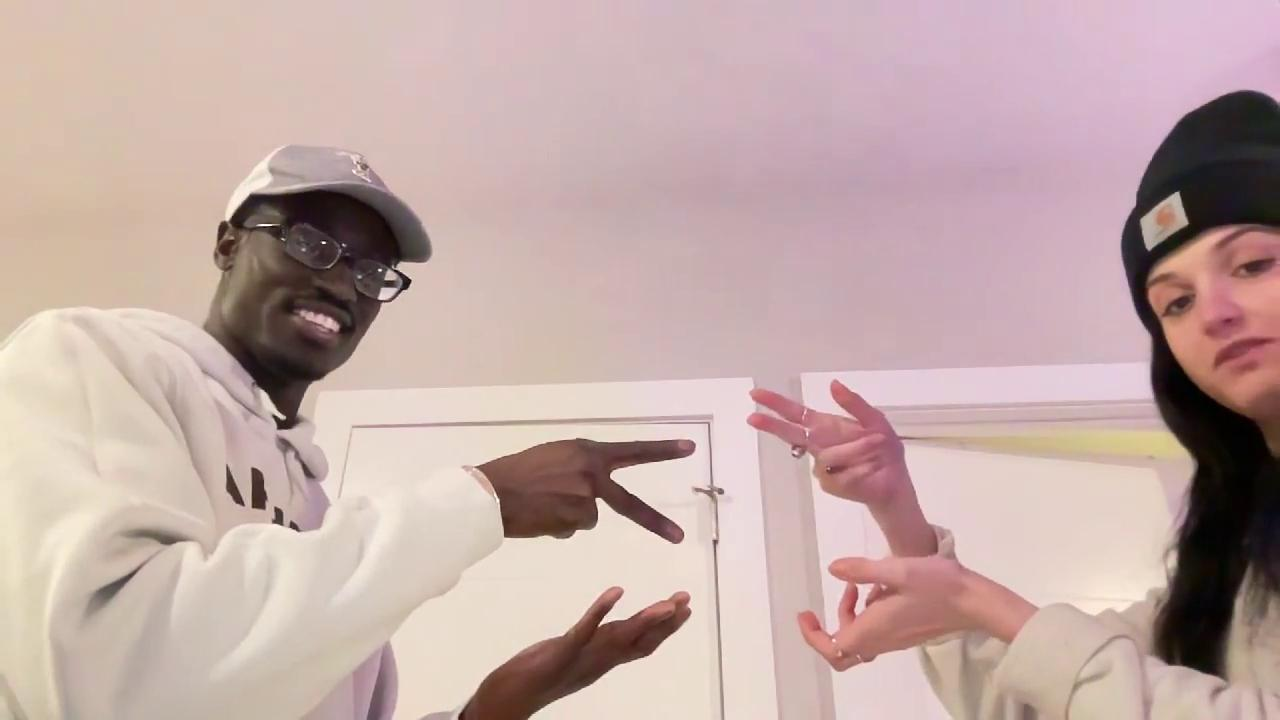Scissors: (495, 437, 696, 545), (745, 378, 905, 510)
